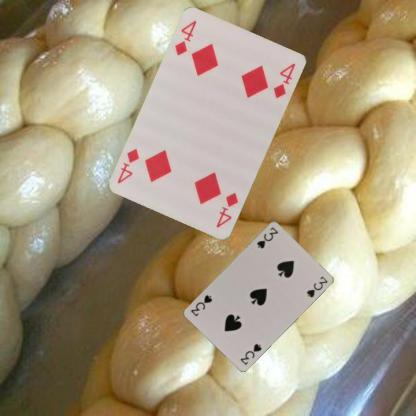3s: (254, 224, 279, 250), (237, 341, 263, 366)
4d: (214, 190, 240, 229), (172, 18, 198, 57)
